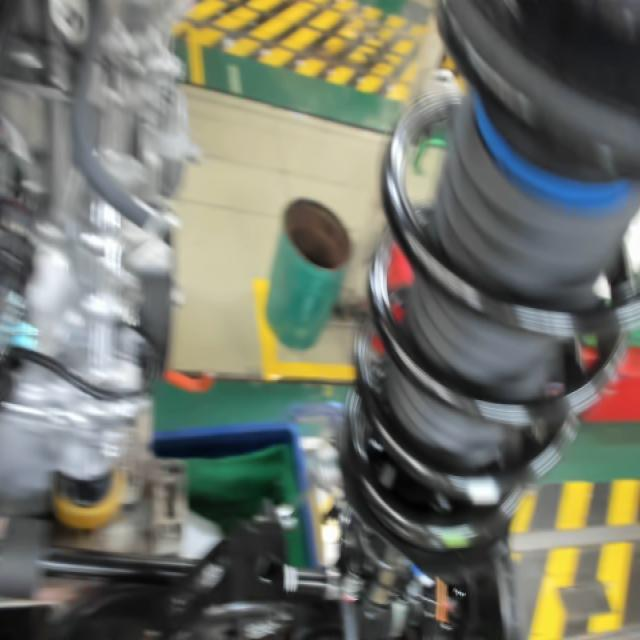Bumper-BR: (458, 88, 639, 213)
